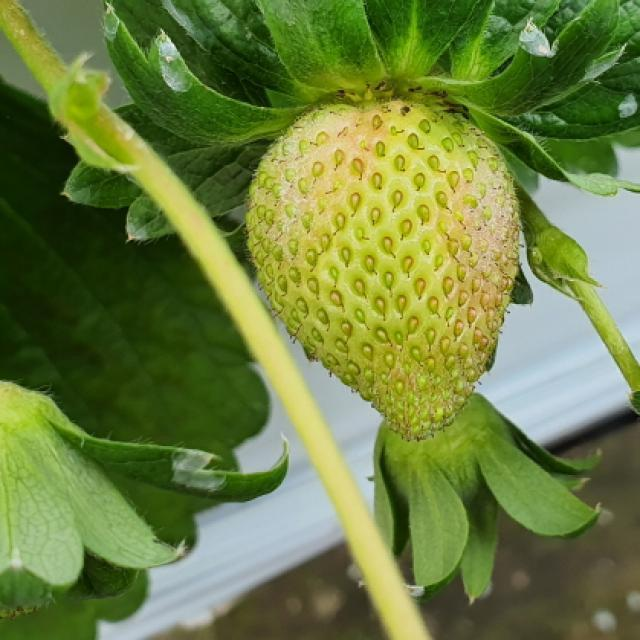Powdery Mildew Fruit: (243, 91, 521, 442)
